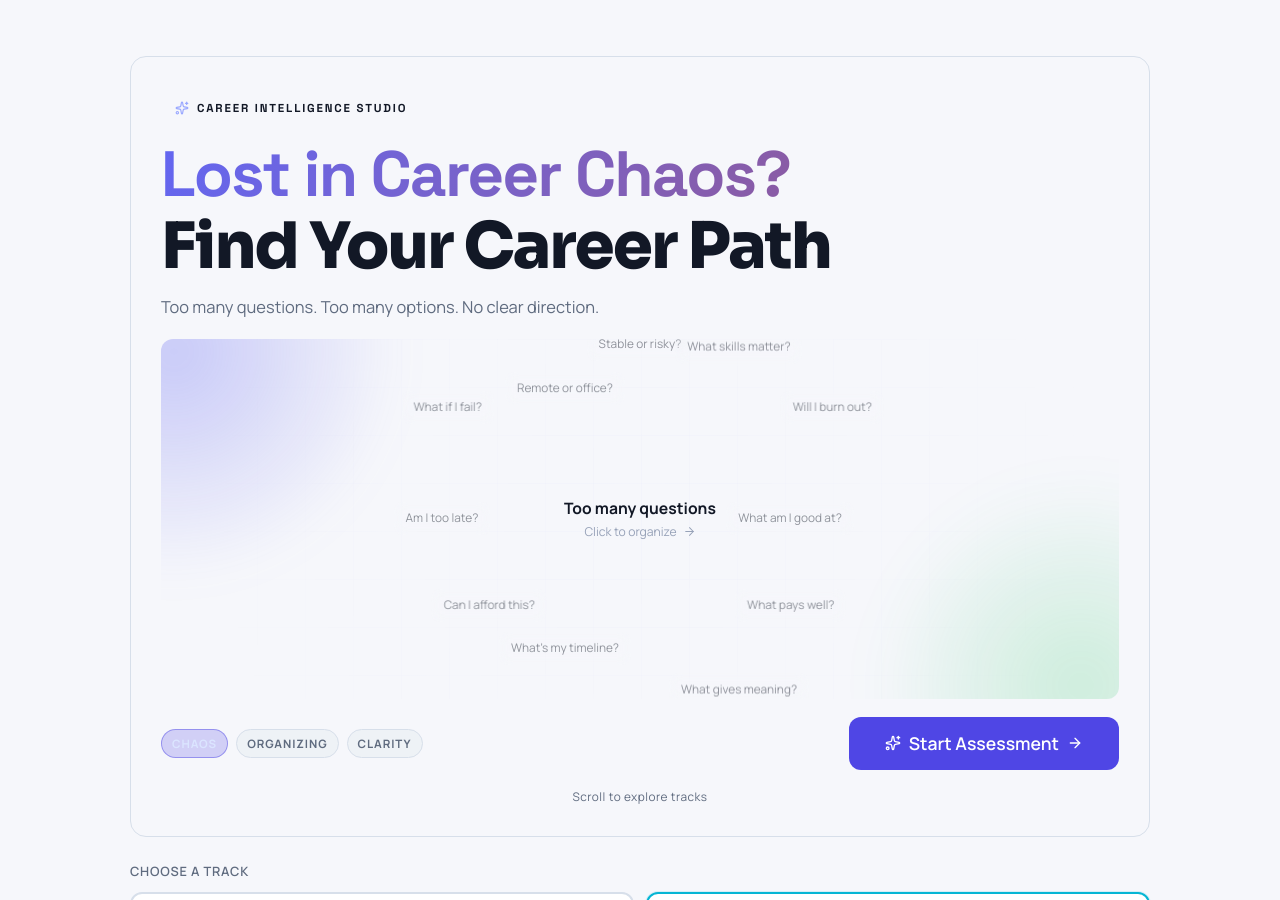
Test: Home › shows "Creating session…" while waiting for API
Click the button "Start Assessment" at (984, 743), box [849,716,1119,770]
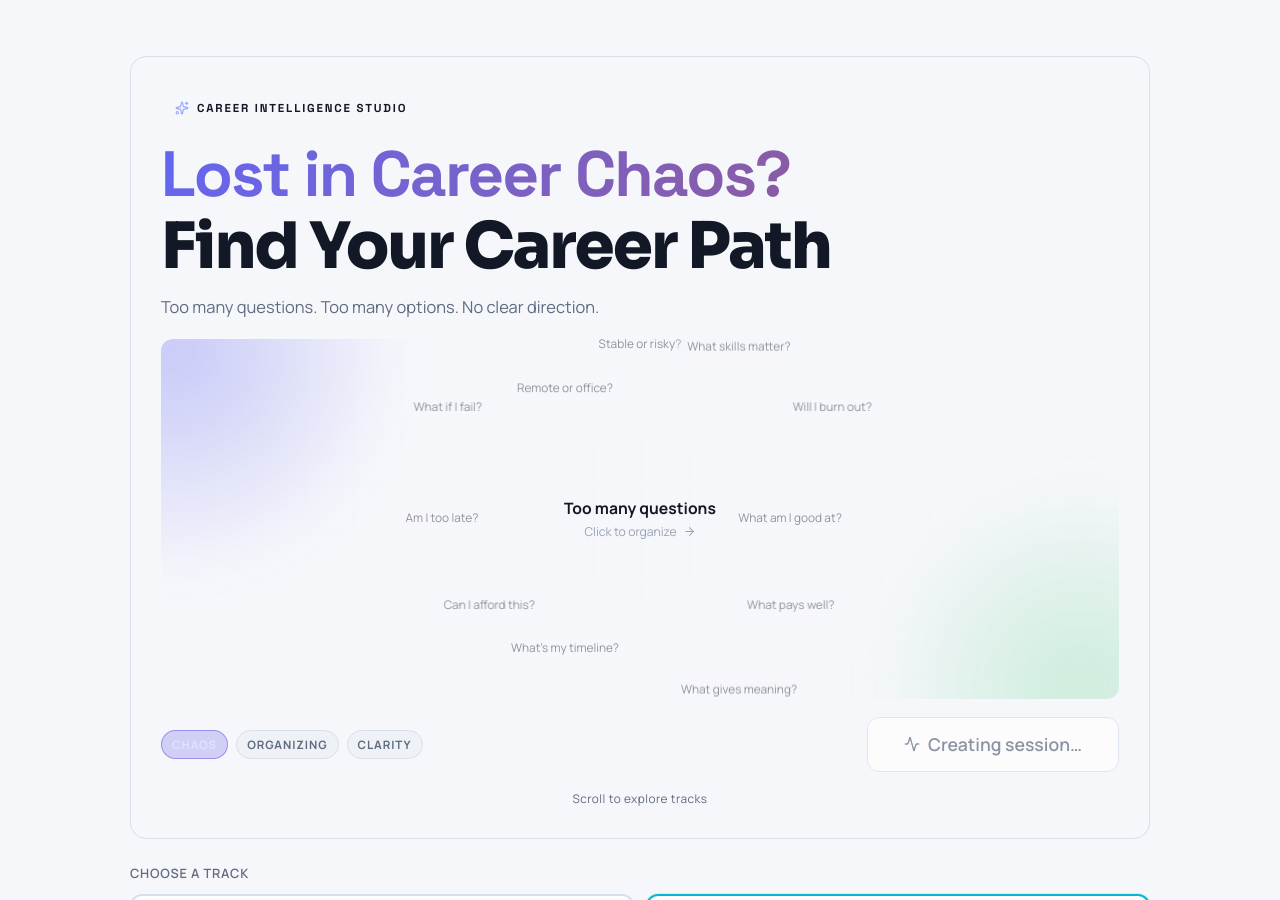
Expected: the text "Creating session…" is shown, [904,732,1082,756]
